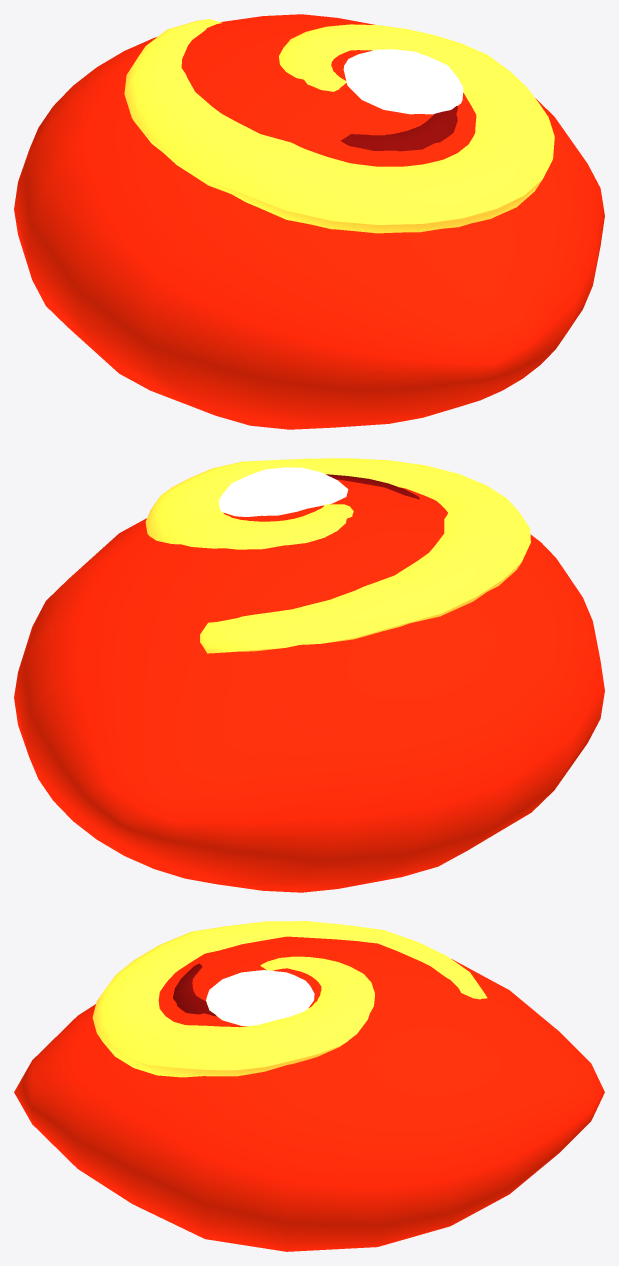
The model's file is sk_cherry.glb.
3 views of the same model, one above another, from view 1: azimuth 30°, elevation 25°; view 2: azimuth 150°, elevation 25°; view 3: azimuth 270°, elevation 25° (orthographic). The views are drawn at different scales.
Visible parts, largest first — view 1: gem, ridge, eye, groove; view 2: gem, ridge, eye; view 3: gem, ridge, eye, groove.
Boxes of the visible parts, box(x1,y1,x2,y2) form: gem: box(14, 14, 604, 429); ridge: box(124, 19, 554, 233); eye: box(343, 49, 463, 114); groove: box(341, 106, 457, 151); gem: box(14, 479, 604, 892); ridge: box(145, 458, 530, 653); eye: box(218, 467, 348, 516); gem: box(14, 936, 604, 1251); ridge: box(92, 921, 487, 1077); eye: box(206, 970, 314, 1025); groove: box(173, 963, 216, 1016).
Size of the model in its own units: 10 by 6.34 by 13.
